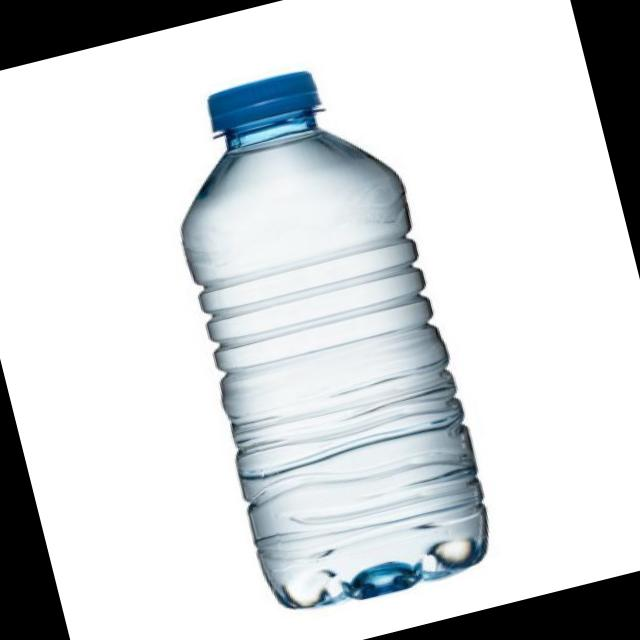plastic_bottle: (146, 51, 502, 622)
